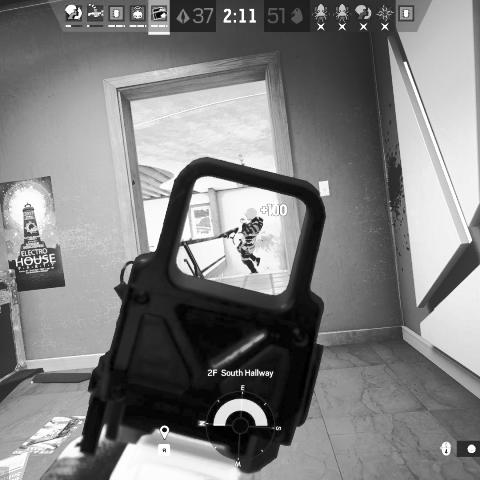Character: (237, 206, 265, 276)
Head: (245, 208, 258, 222)
